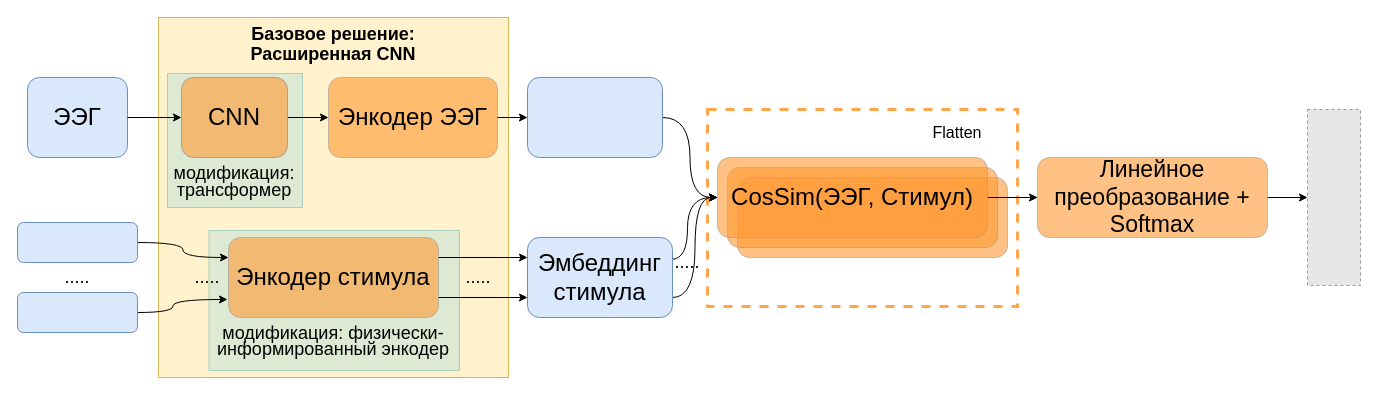
This 1378x405 diagram has some shape labels left out. Grey dashed boxes stand in for pictures. Each missing label, with the centre of its shape:
Стимул_1: point 77,242
Стимул_K: point 77,312
Эмбеддинг ЭЭГ: point 594,117
